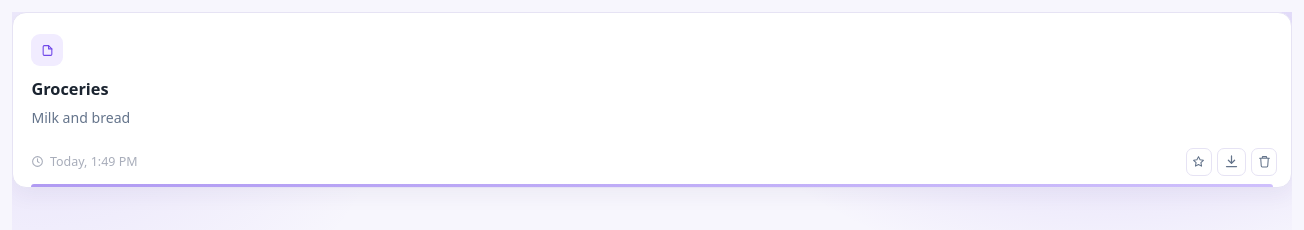
Test: NoteCard › deleting › asks first instead of deleting straight away
Click the button named "Delete Groceries": (1264, 162) [1251,148,1277,176]
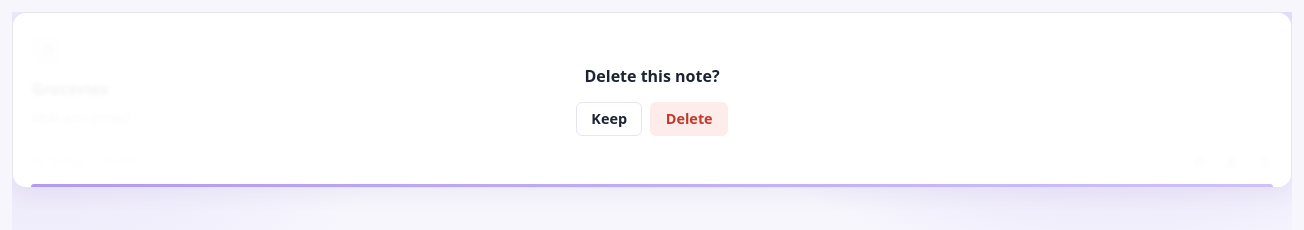
Check: the text "Delete this note?" is shown, box [584,64,720,89]
